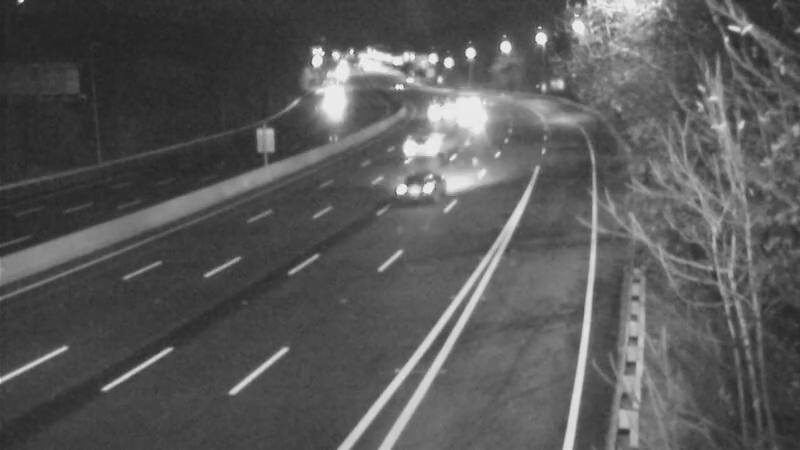vehicle: (382, 147, 462, 227), (442, 77, 492, 127), (415, 81, 465, 131), (448, 97, 498, 147), (399, 117, 449, 167), (302, 81, 352, 131)
